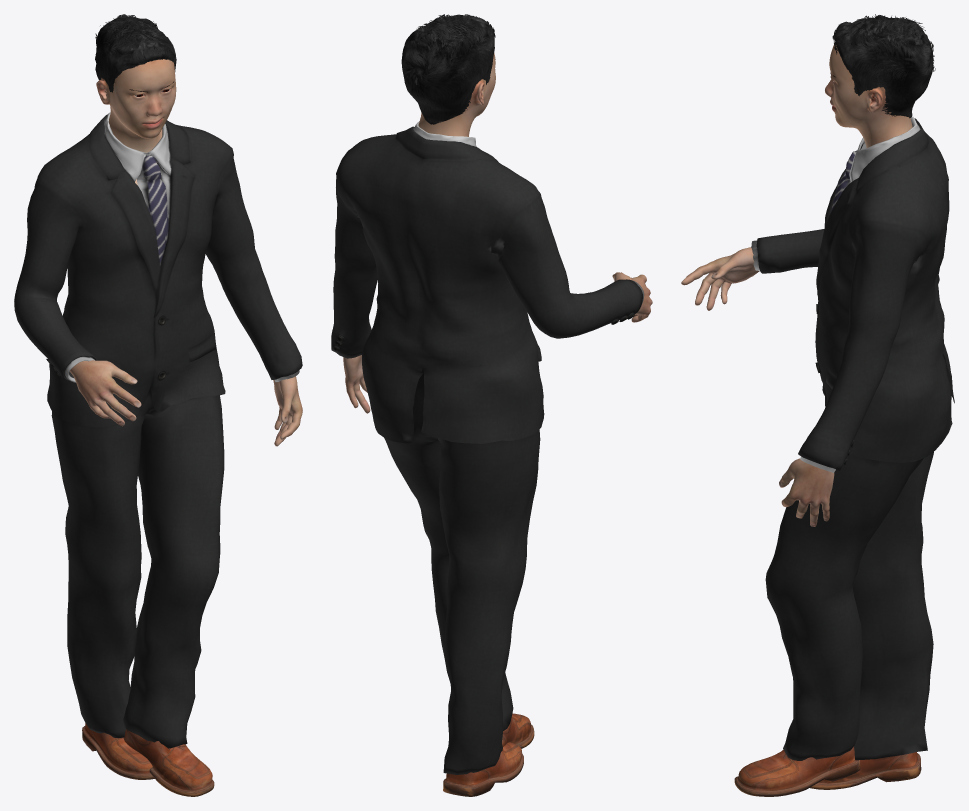
Rendered from elegant_male.dae.
The picture shows the model from 3 angles, left to right: view 1: azimuth 30°, elevation 25°; view 2: azimuth 150°, elevation 25°; view 3: azimuth 270°, elevation 25°; orthographic projection. The views are drawn at different scales.
Visible parts, largest first — view 1: elegant_male-male_elegantsuit01, elegant_male-male_generic, elegant_male-shoes01, elegant_male-short01; view 2: elegant_male-male_elegantsuit01, elegant_male-short01, elegant_male-male_generic, elegant_male-shoes01; view 3: elegant_male-male_elegantsuit01, elegant_male-male_generic, elegant_male-short01, elegant_male-shoes01.
Boxes of the visible parts, x1=… form: elegant_male-male_elegantsuit01: x1=14, y1=112, x2=302, y2=748; elegant_male-male_generic: x1=69, y1=59, x2=302, y2=446; elegant_male-shoes01: x1=82, y1=723, x2=214, y2=796; elegant_male-short01: x1=95, y1=14, x2=176, y2=92; elegant_male-male_elegantsuit01: x1=331, y1=121, x2=644, y2=774; elegant_male-short01: x1=401, y1=14, x2=495, y2=124; elegant_male-male_generic: x1=343, y1=53, x2=652, y2=413; elegant_male-shoes01: x1=443, y1=713, x2=534, y2=796; elegant_male-male_elegantsuit01: x1=751, y1=116, x2=954, y2=760; elegant_male-male_generic: x1=681, y1=45, x2=912, y2=526; elegant_male-short01: x1=832, y1=14, x2=935, y2=118; elegant_male-shoes01: x1=734, y1=746, x2=921, y2=796.
Bounding box in the file's own units: 0.6317 × 0.5323 × 1.66.
6 materials, 6 textured.
